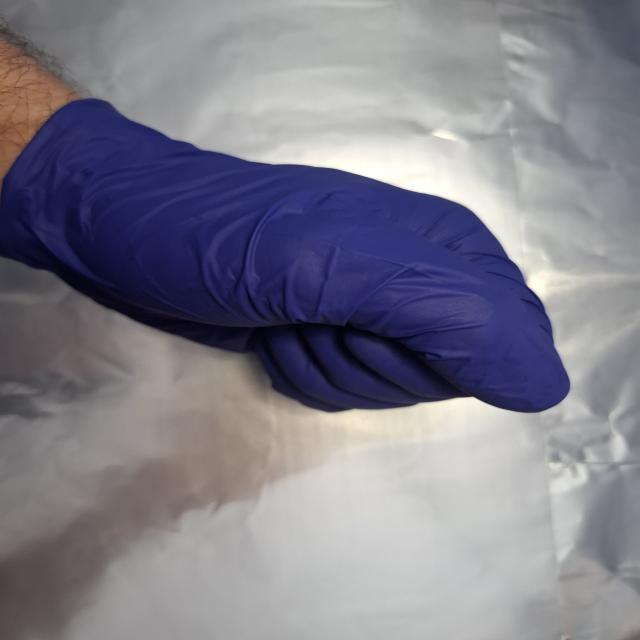glove_on: (10, 92, 575, 417)
